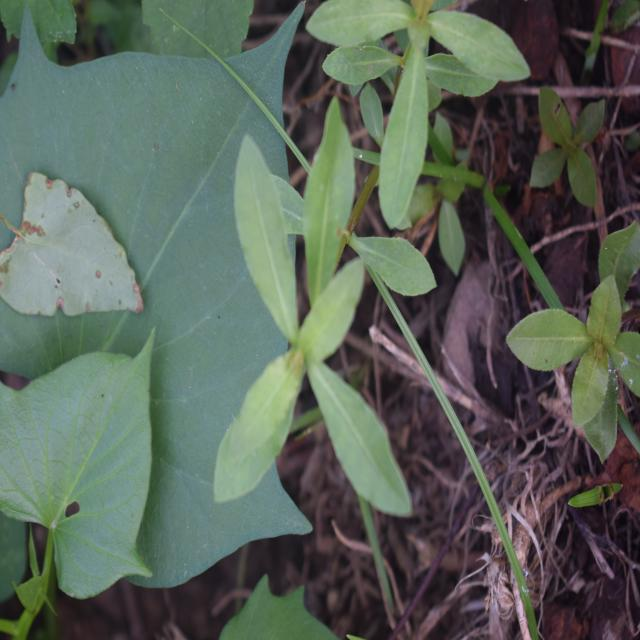Alligatorweed: (222, 116, 459, 547)
